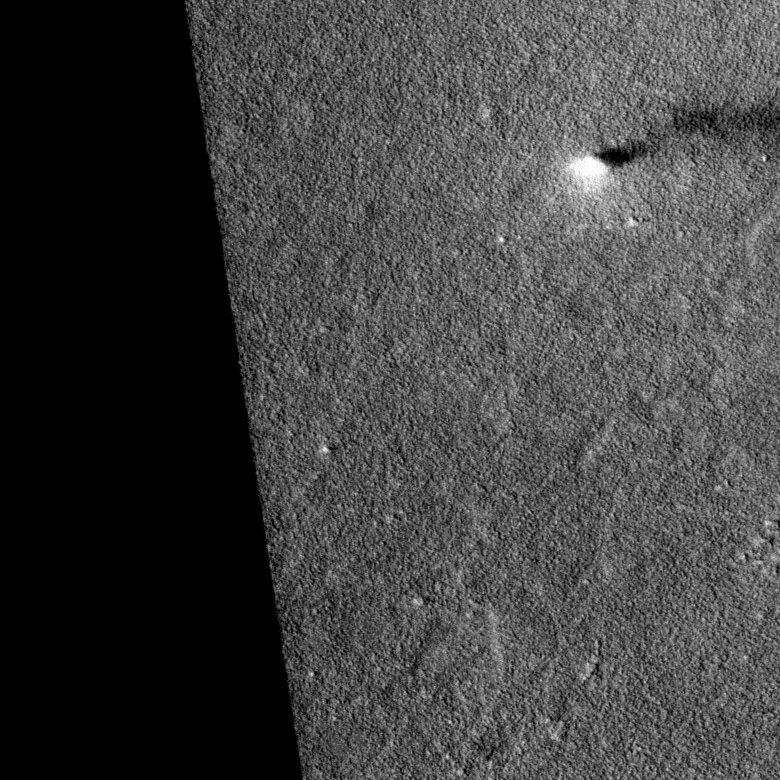dust_devil: (566, 94, 780, 197)
